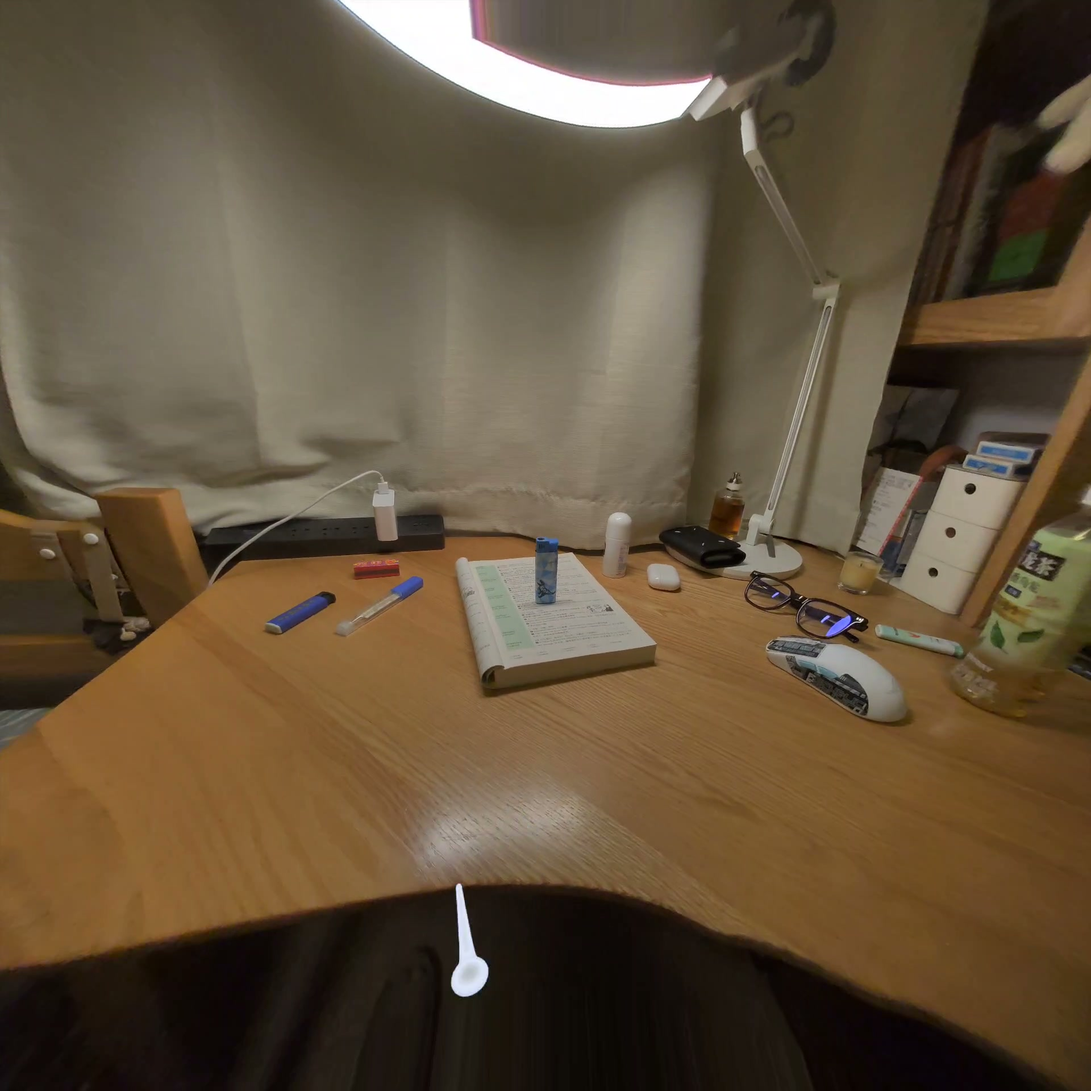lighter: (535, 538, 559, 605)
